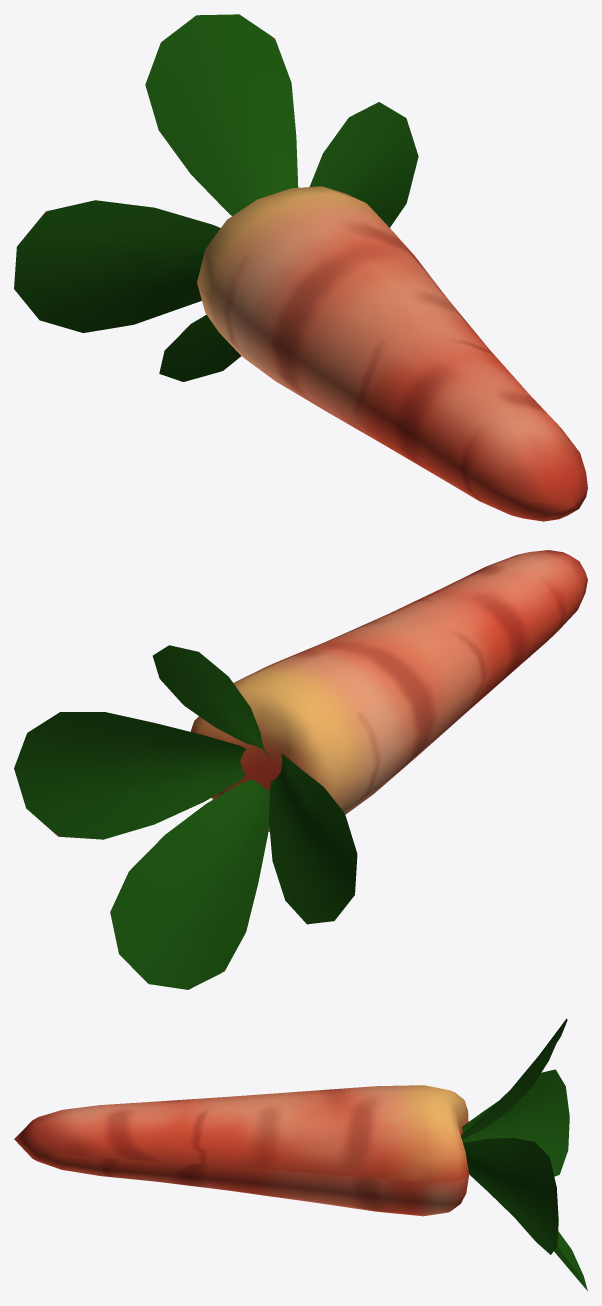
The model's file is Carrot.fbx.
3 views of the same model, one above another, from view 1: azimuth 30°, elevation 25°; view 2: azimuth 150°, elevation 25°; view 3: azimuth 270°, elevation 25° (orthographic). The views are drawn at different scales.
Parts seen in each view (by area): view 1: Carrot; view 2: Carrot; view 3: Carrot.
Boxes of the visible parts, x1,y1,x2,y2 form: Carrot: (14,14,587,521); Carrot: (14,550,587,989); Carrot: (14,1018,587,1290).
Size of the model in its own units: 195 by 178 by 356.
